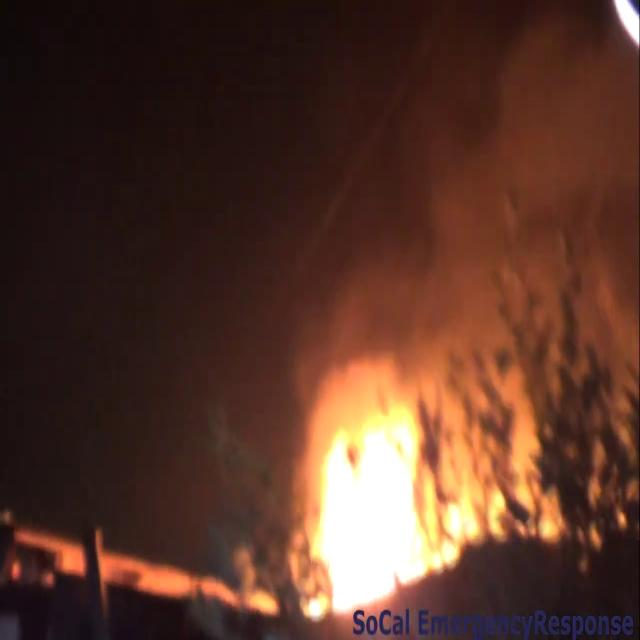Fire: (294, 389, 474, 619)
Smoke: (208, 0, 640, 387)
